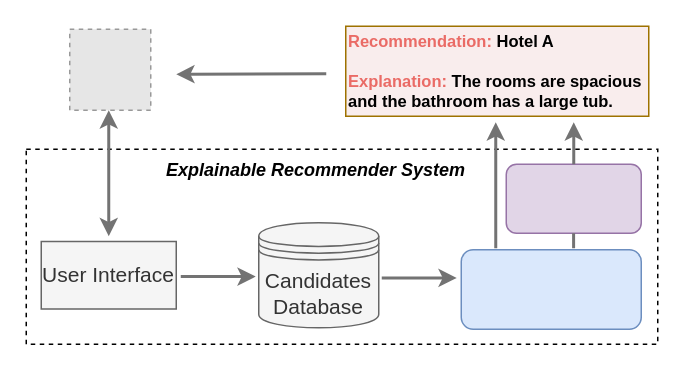
The diagram is 684 pixels wide and 371 high, and some of its shapes have lost their labels. Grey dashed boxes stand in for pictures. The centre of each missing label's shape, as x and y in pixels:
"Explanation Algorithm" goes at point 573,198.
"Recommendation Algorithm" goes at point 550,288.
